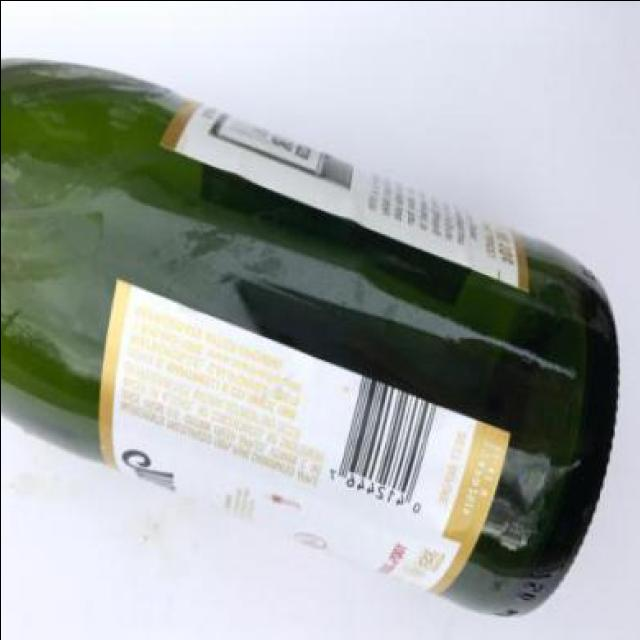kaca: (1, 62, 618, 624)
